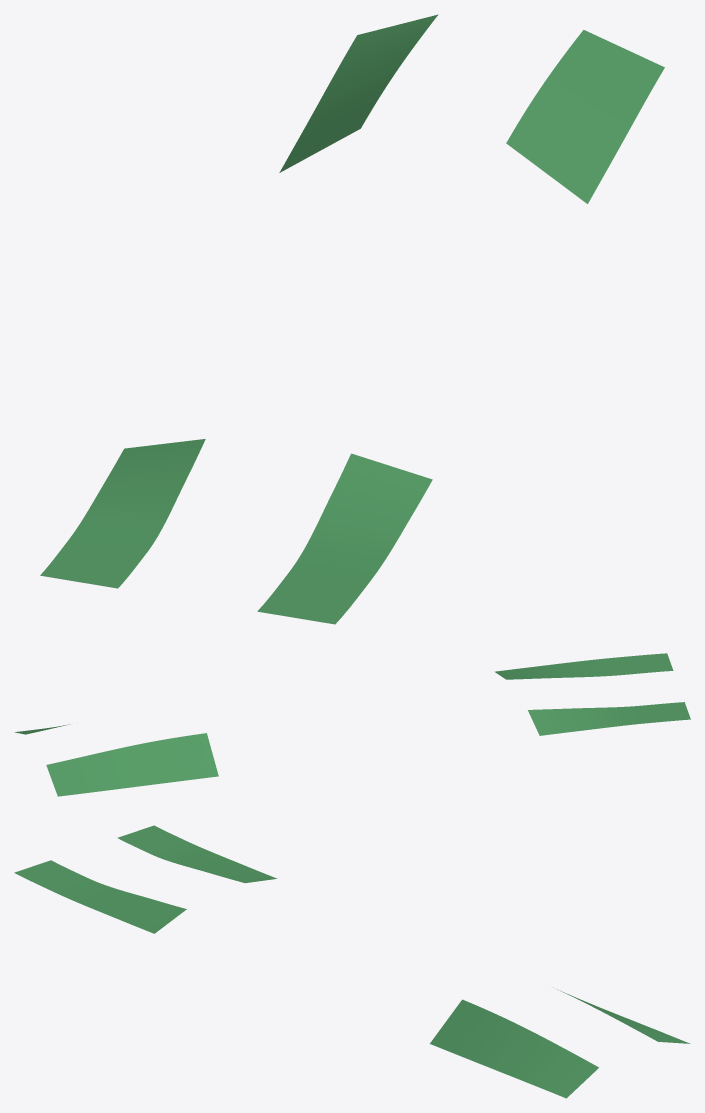
File: approach_verges.glb
3 views of the same model, one above another, from view 1: azimuth 30°, elevation 25°; view 2: azimuth 150°, elevation 25°; view 3: azimuth 270°, elevation 25° (orthographic). The views are drawn at different scales.
Visible parts, largest first — view 1: Approach_1_Right, Approach_0_Right, Approach_0_Left, Approach_1_Left; view 2: Approach_1_Left, Approach_0_Left, Approach_0_Right; view 3: Approach_1_Right, Approach_0_Right, Approach_0_Left, Approach_1_Left.
Boxes of the visible parts, x1,y1,x2,y2 form: Approach_1_Right: [506, 30, 664, 203]; Approach_0_Right: [257, 453, 432, 624]; Approach_0_Left: [40, 439, 205, 588]; Approach_1_Left: [279, 14, 438, 172]; Approach_1_Left: [46, 733, 218, 796]; Approach_0_Left: [528, 702, 690, 735]; Approach_0_Right: [494, 653, 673, 679]; Approach_1_Right: [430, 999, 598, 1098]; Approach_0_Right: [14, 860, 186, 933]; Approach_0_Left: [117, 825, 277, 883]; Approach_1_Left: [557, 989, 690, 1043].
Bounding box in the file's own units: 136 × 6.94 × 143.
